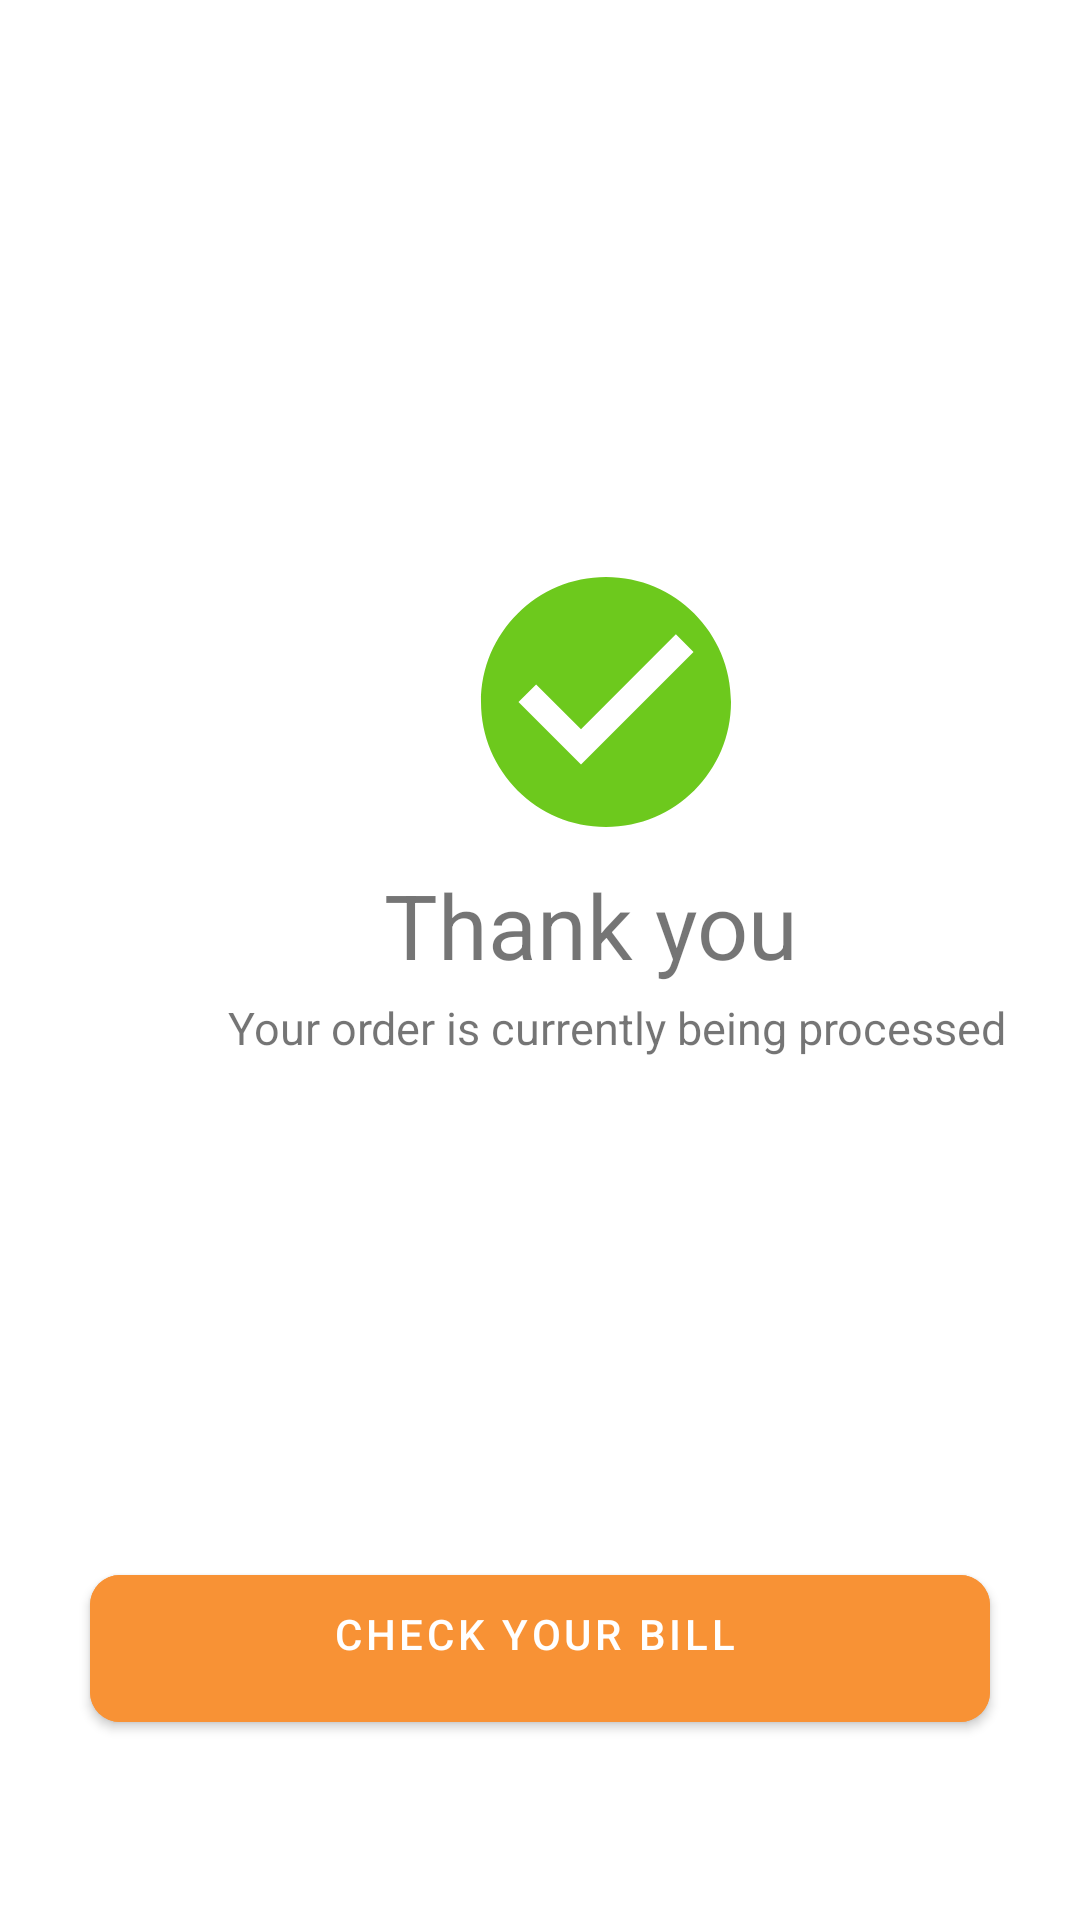

Locate icon controls on the screen. Image size 1080px×1920px, boxes as (x1, y1, x2, y2).
check circle: (481, 577, 731, 827)
